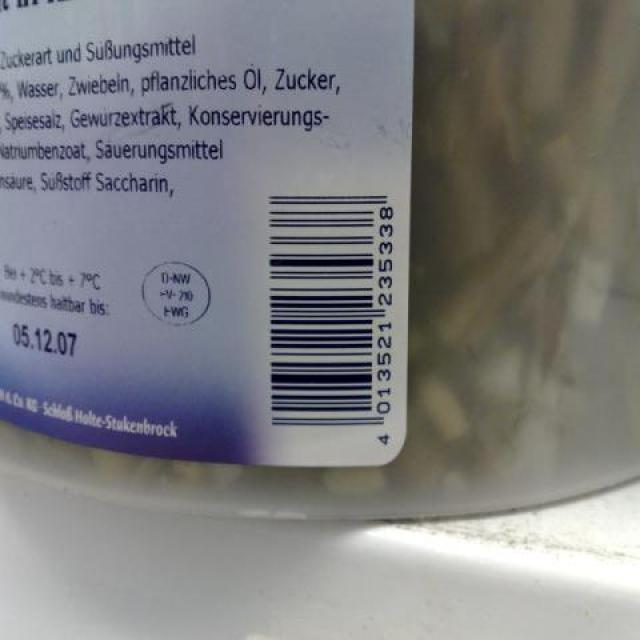Barcode: (258, 175, 402, 457)
